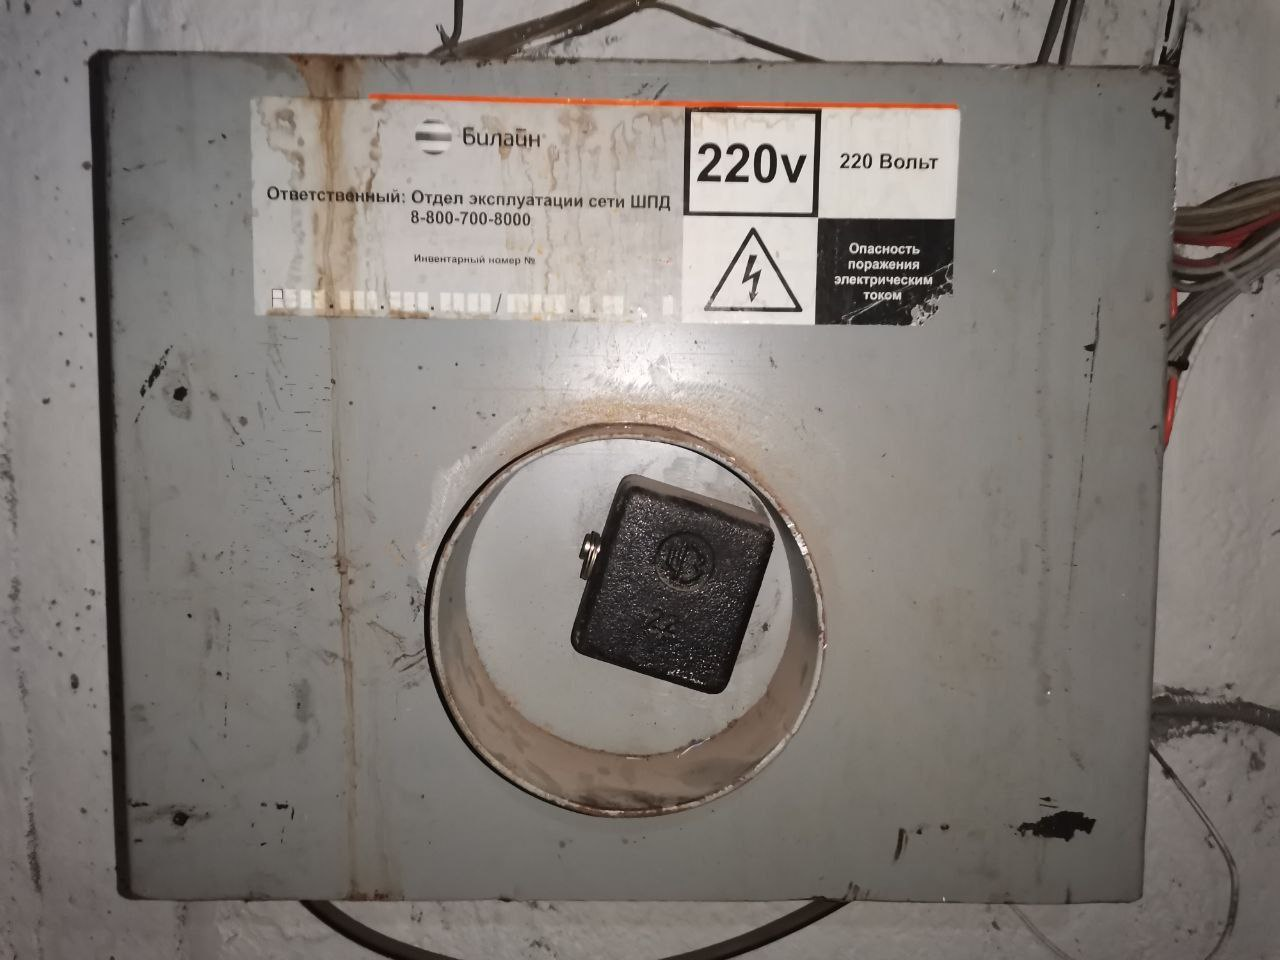shta-3: (96, 46, 1187, 907)
